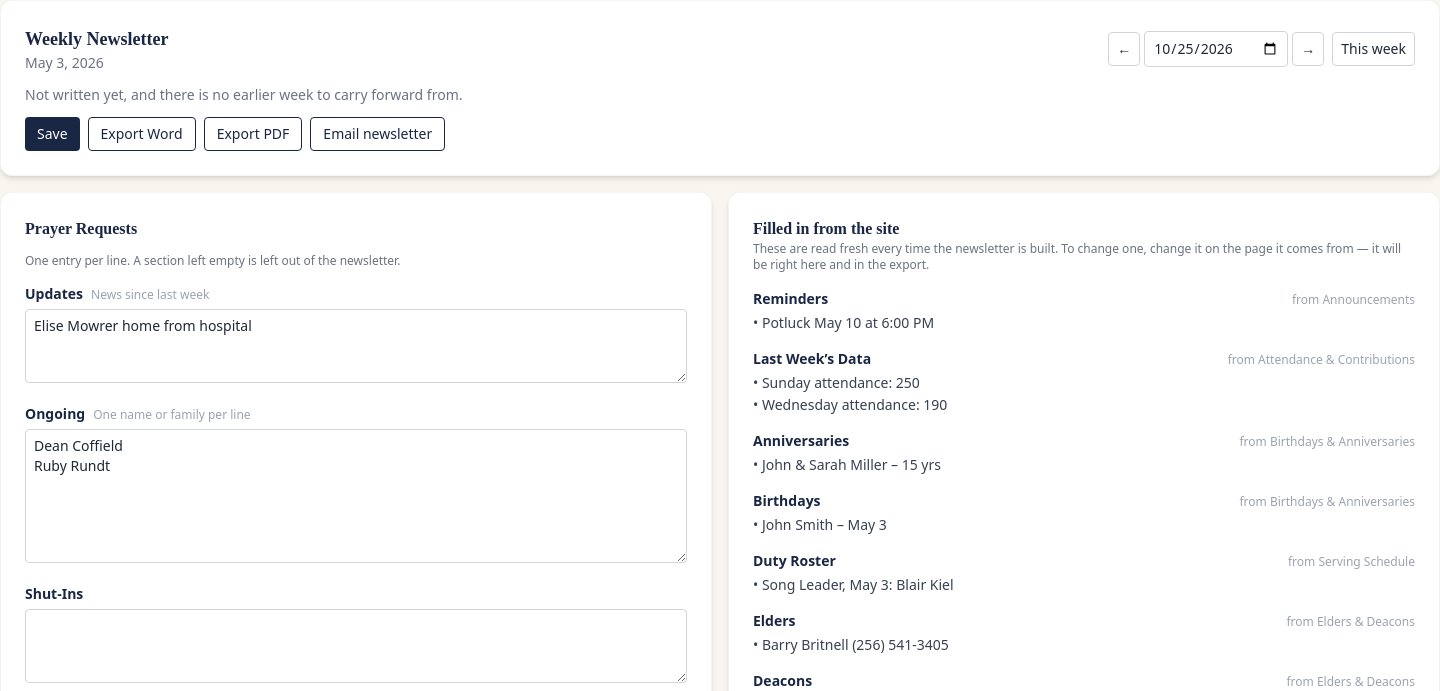
Scenario: the weekly newsletter screen › emailing it › warns before sending the same week to the same list twice
Click the button "Email newsletter" at (378, 134), box top-left (310, 117), bottom-right (445, 151)
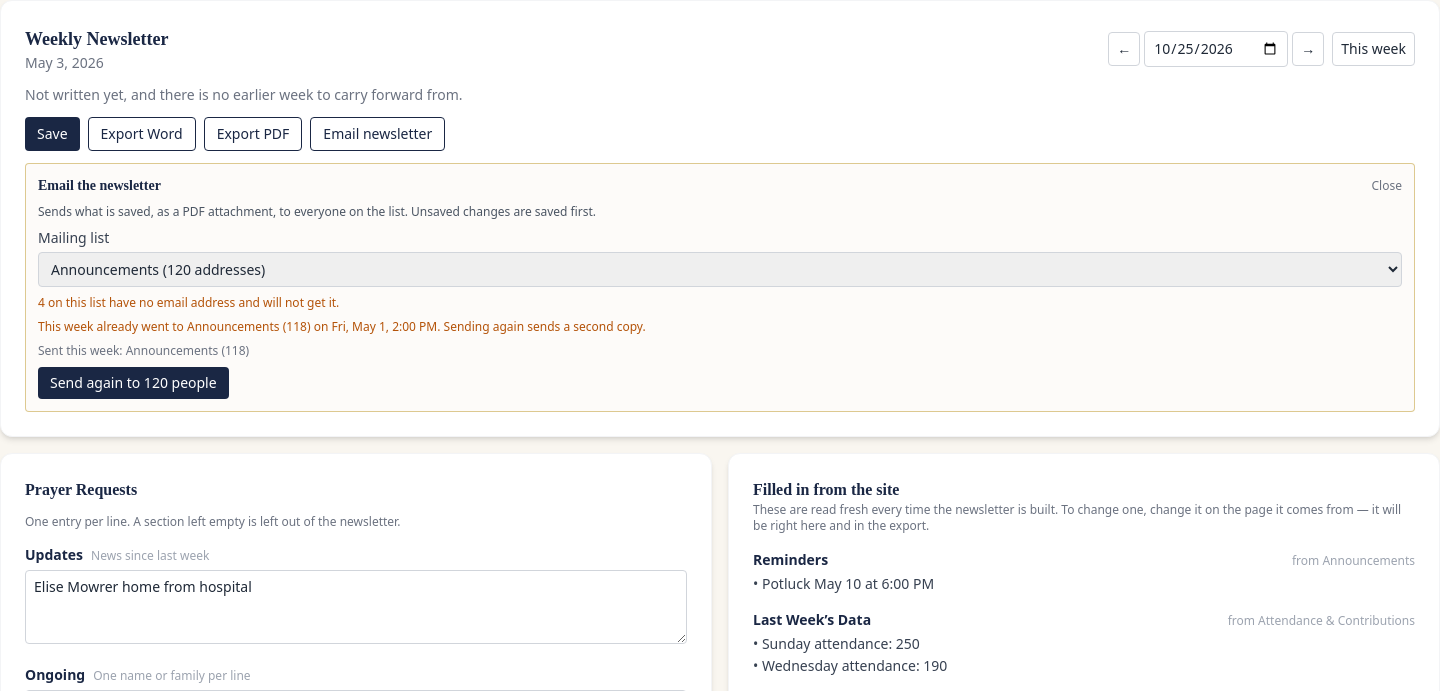
Now the text "This week already went to Announcements (118)" is shown, box top-left (38, 318), bottom-right (646, 335)
Now the button "Send again to 120 people" is shown, box top-left (38, 367), bottom-right (229, 399)
